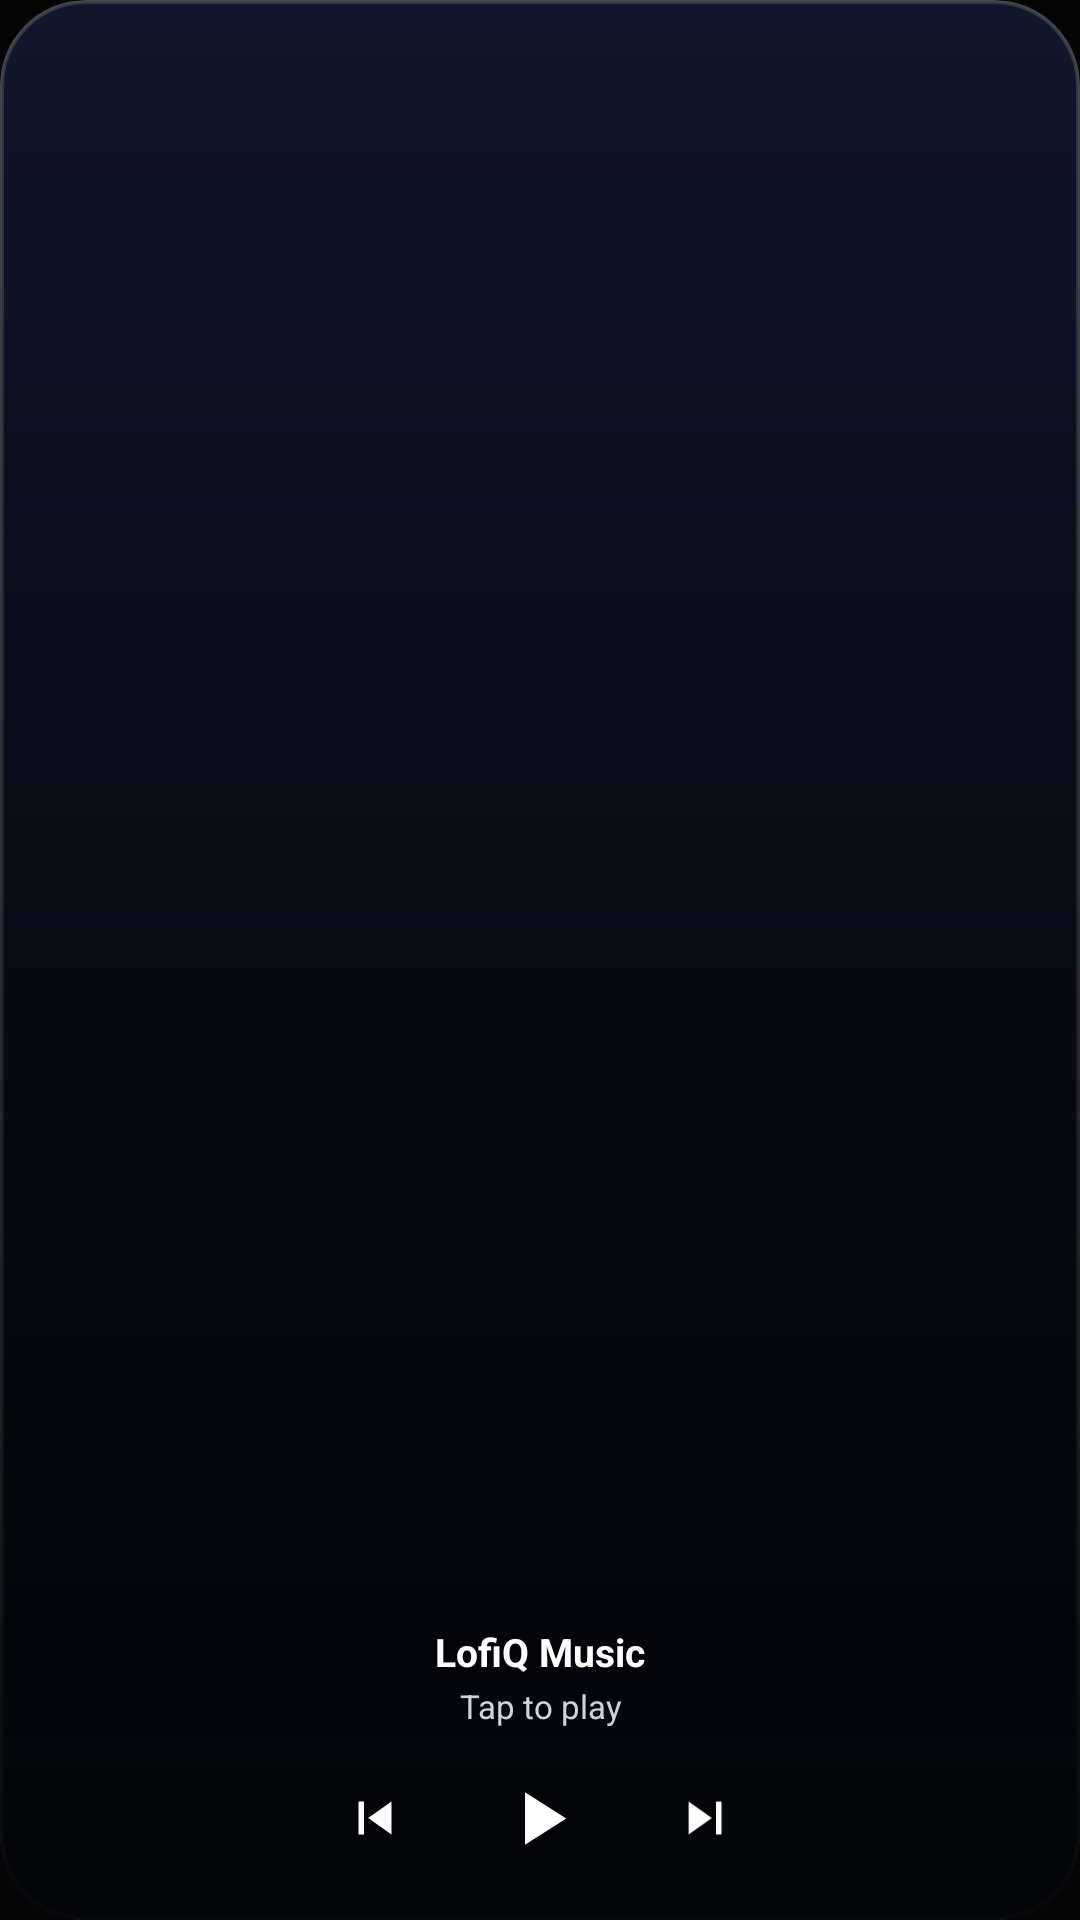

Screen size 1080px×1920px. Icon name, then its center in pixels as (x,y):
Next: (705,1818)
Play Pause: (545,1818)
Previous: (375,1818)
